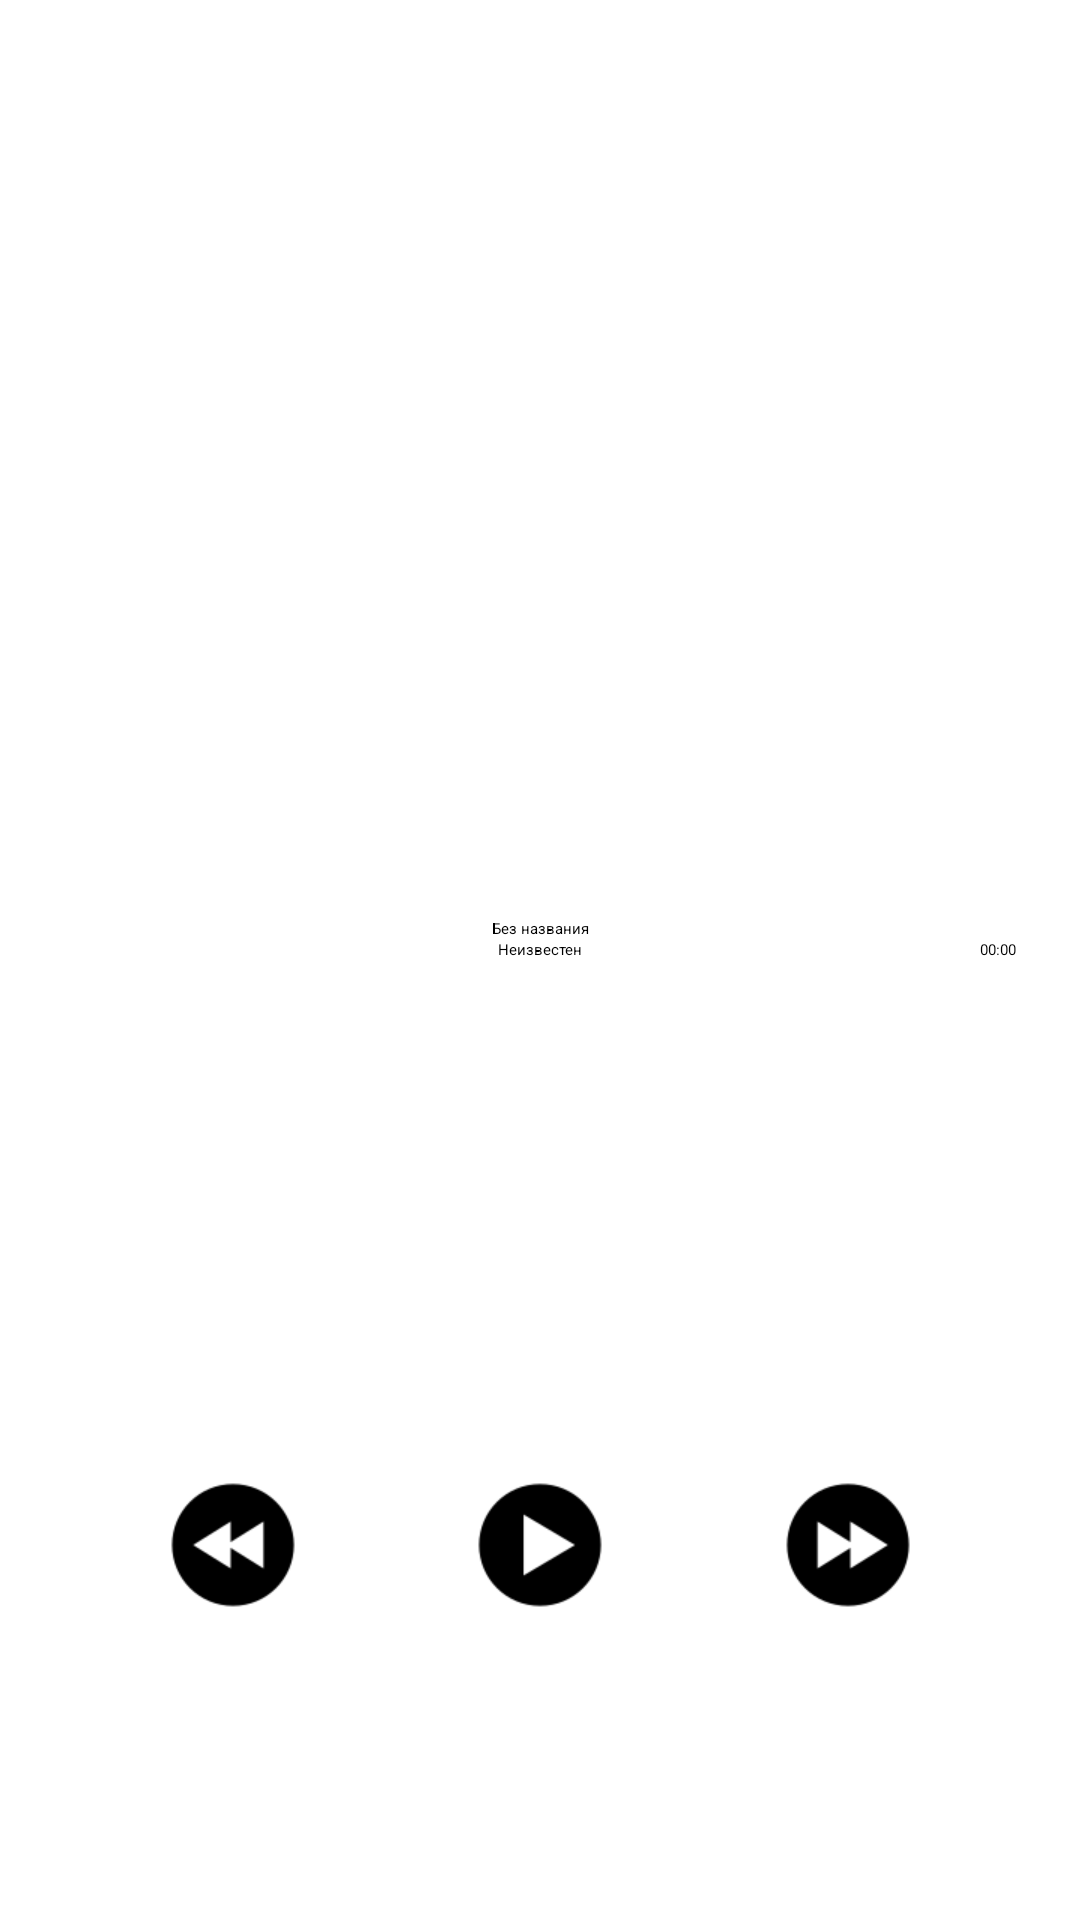

Point at icon controls on the screen. Image size 1080x1920, points as [x,y].
next: [848,1545]
play: [540,1545]
prev: [233,1545]
